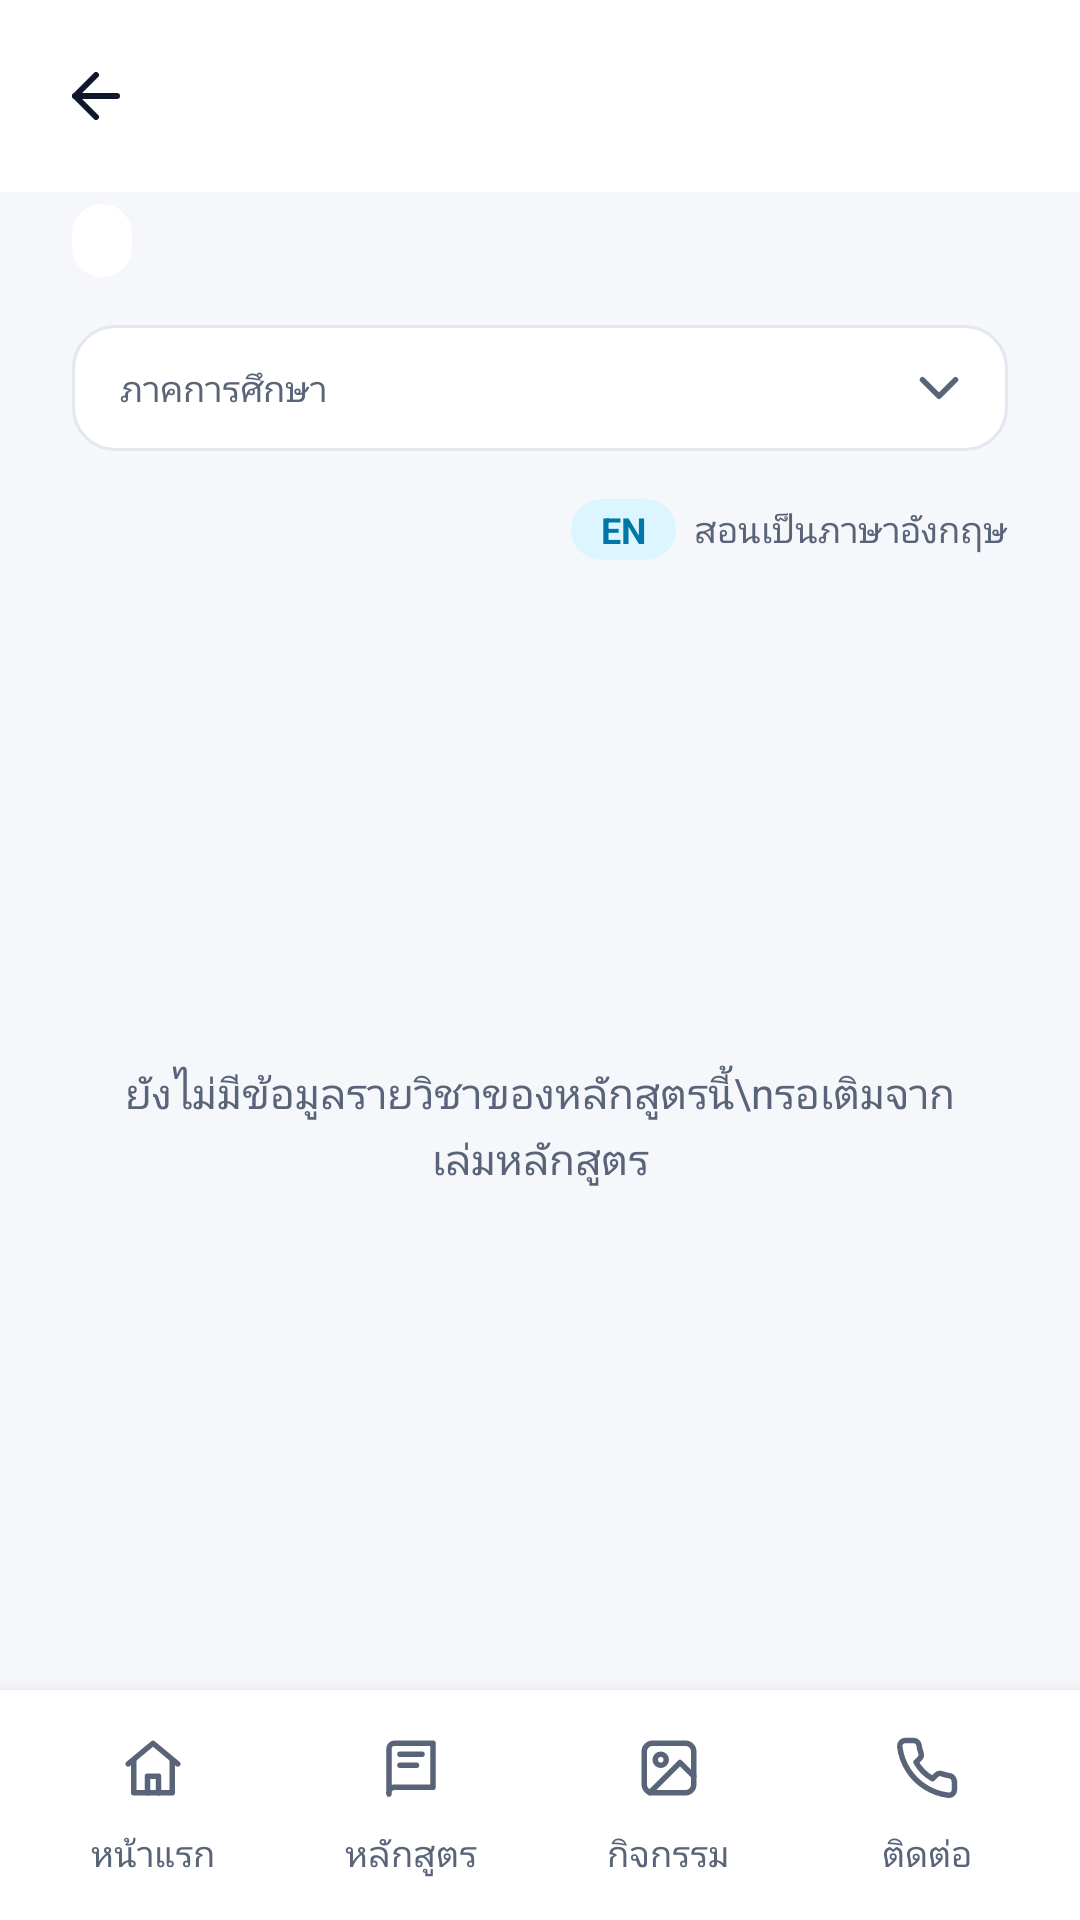

Screen size 1080 x 1920. Icon name, then its center in pixels as (x=x, y=y):
chevron down: (x=939, y=388)
ui home: (x=153, y=1768)
ui phone: (x=927, y=1767)
ย้อนกลับ: (x=96, y=96)
